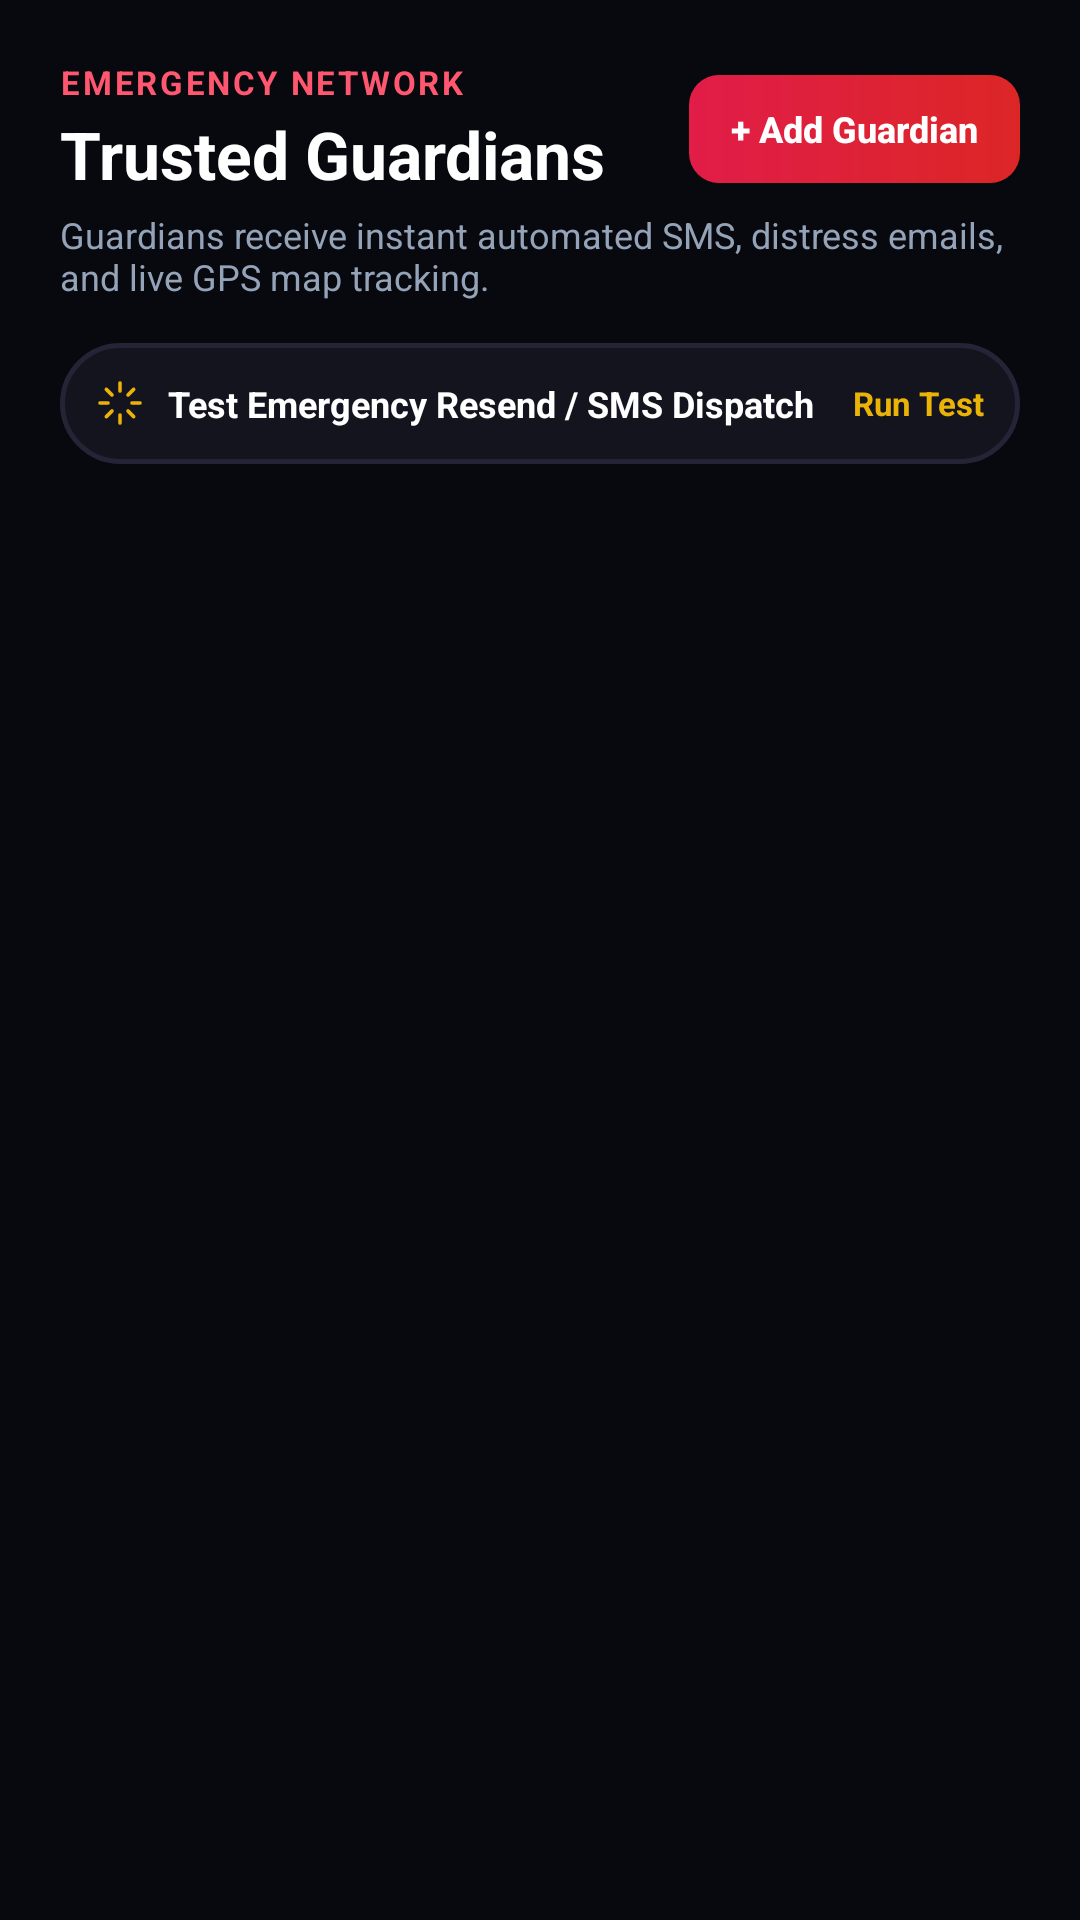

Icons on this 1080px x 1920px Android screen, each with its box as (x1, y1, x2, y2):
sparkle: (98, 381, 142, 425)
